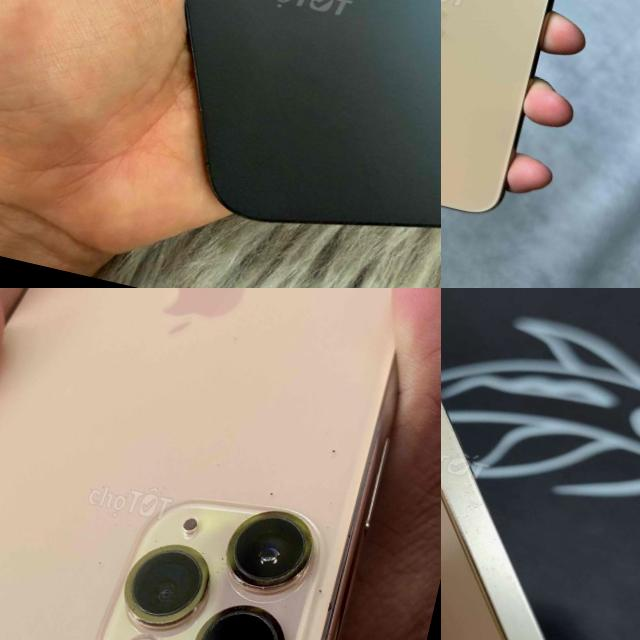scratch: (441, 345, 568, 596), (110, 514, 228, 629), (222, 494, 324, 597), (302, 570, 349, 638), (312, 424, 351, 459), (255, 480, 284, 502)
